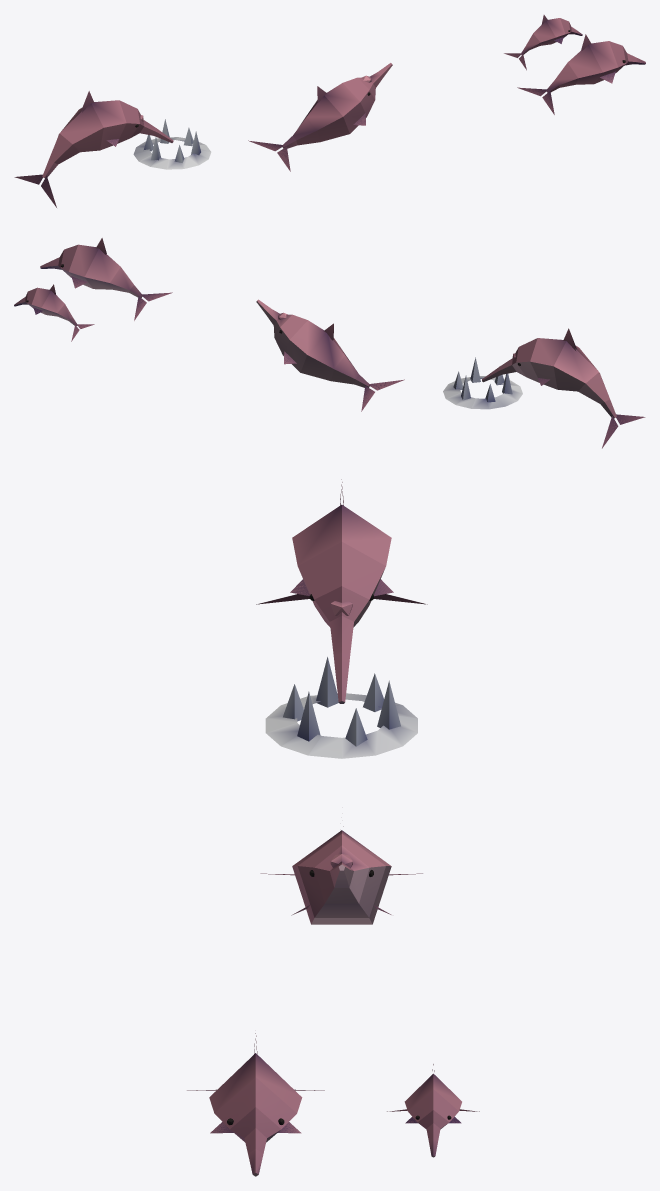
The model's file is toninas.glb.
3 renders of one model, top to bottom at view 1: azimuth 30°, elevation 25°; view 2: azimuth 150°, elevation 25°; view 3: azimuth 270°, elevation 25°, orthographic. The views are drawn at different scales.
Parts seen in each view (by area): view 1: tonina_1, tonina_2, tonina_3, splash; view 2: tonina_1, tonina_2, tonina_3, splash; view 3: tonina_1, tonina_3, splash, tonina_2.
Part boxes in pixels (x1,y1,x2,y2): tonina_1: (14,91,173,207); tonina_2: (248,63,392,171); tonina_3: (504,15,645,114); splash: (133,119,211,169); tonina_1: (482,328,645,448); tonina_2: (256,299,404,411); tonina_3: (14,238,172,341); splash: (443,357,522,409); tonina_1: (256,479,427,703); tonina_3: (187,1033,479,1176); splash: (265,657,417,758); tonina_2: (260,826,422,924).
Bounding box in the file's own units: 50.48 × 9 × 11.23.
